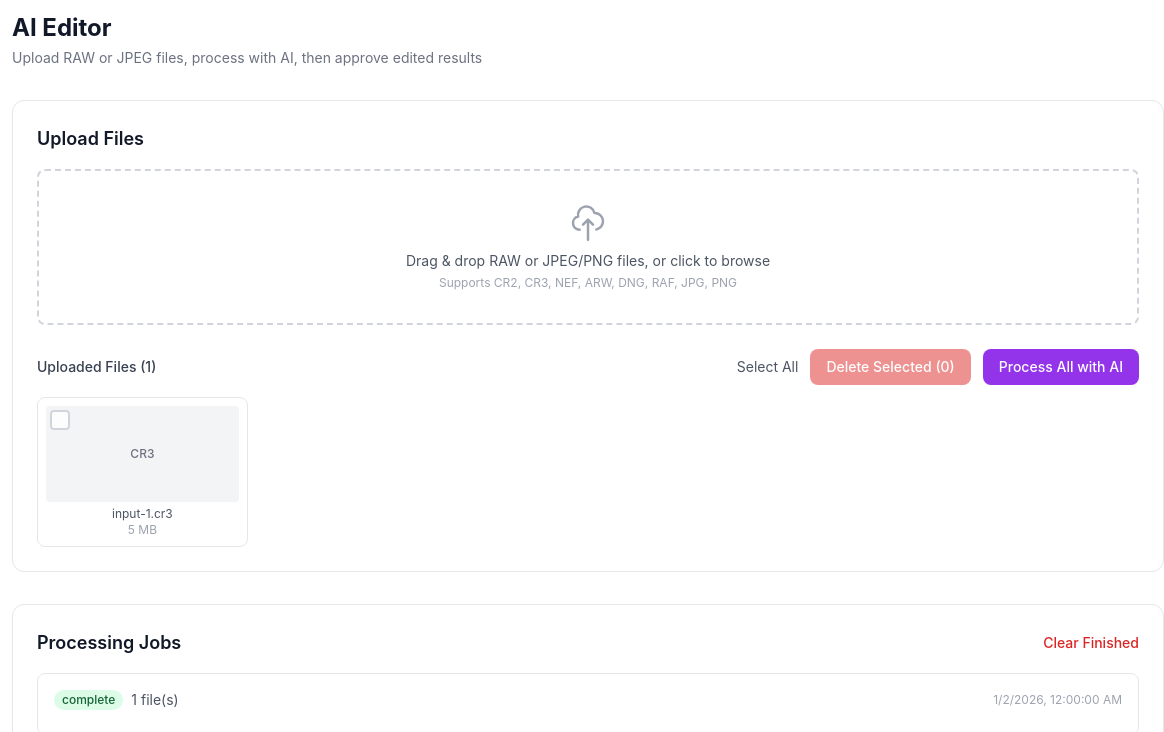
Test: ImagenEditor › processes all uploaded files
Click the button "Process All with AI" at (1061, 367), box [983, 349, 1139, 385]
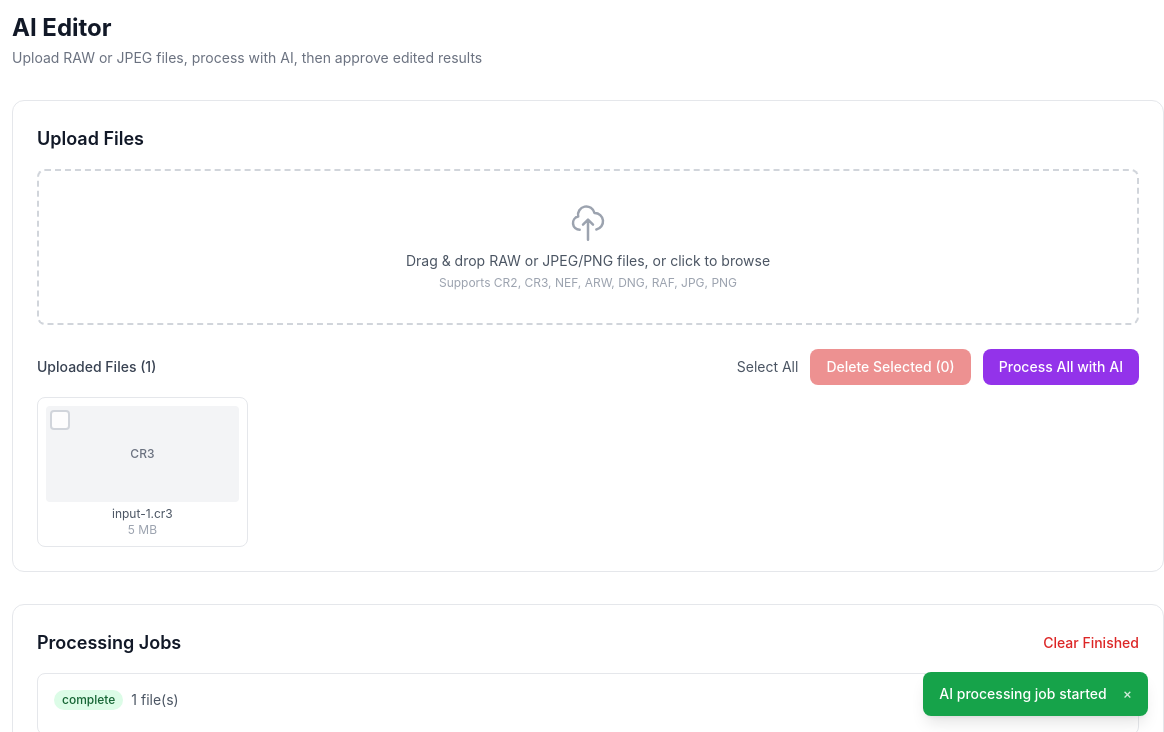
expect the message shows "AI processing job started": met, box [939, 685, 1107, 702]
